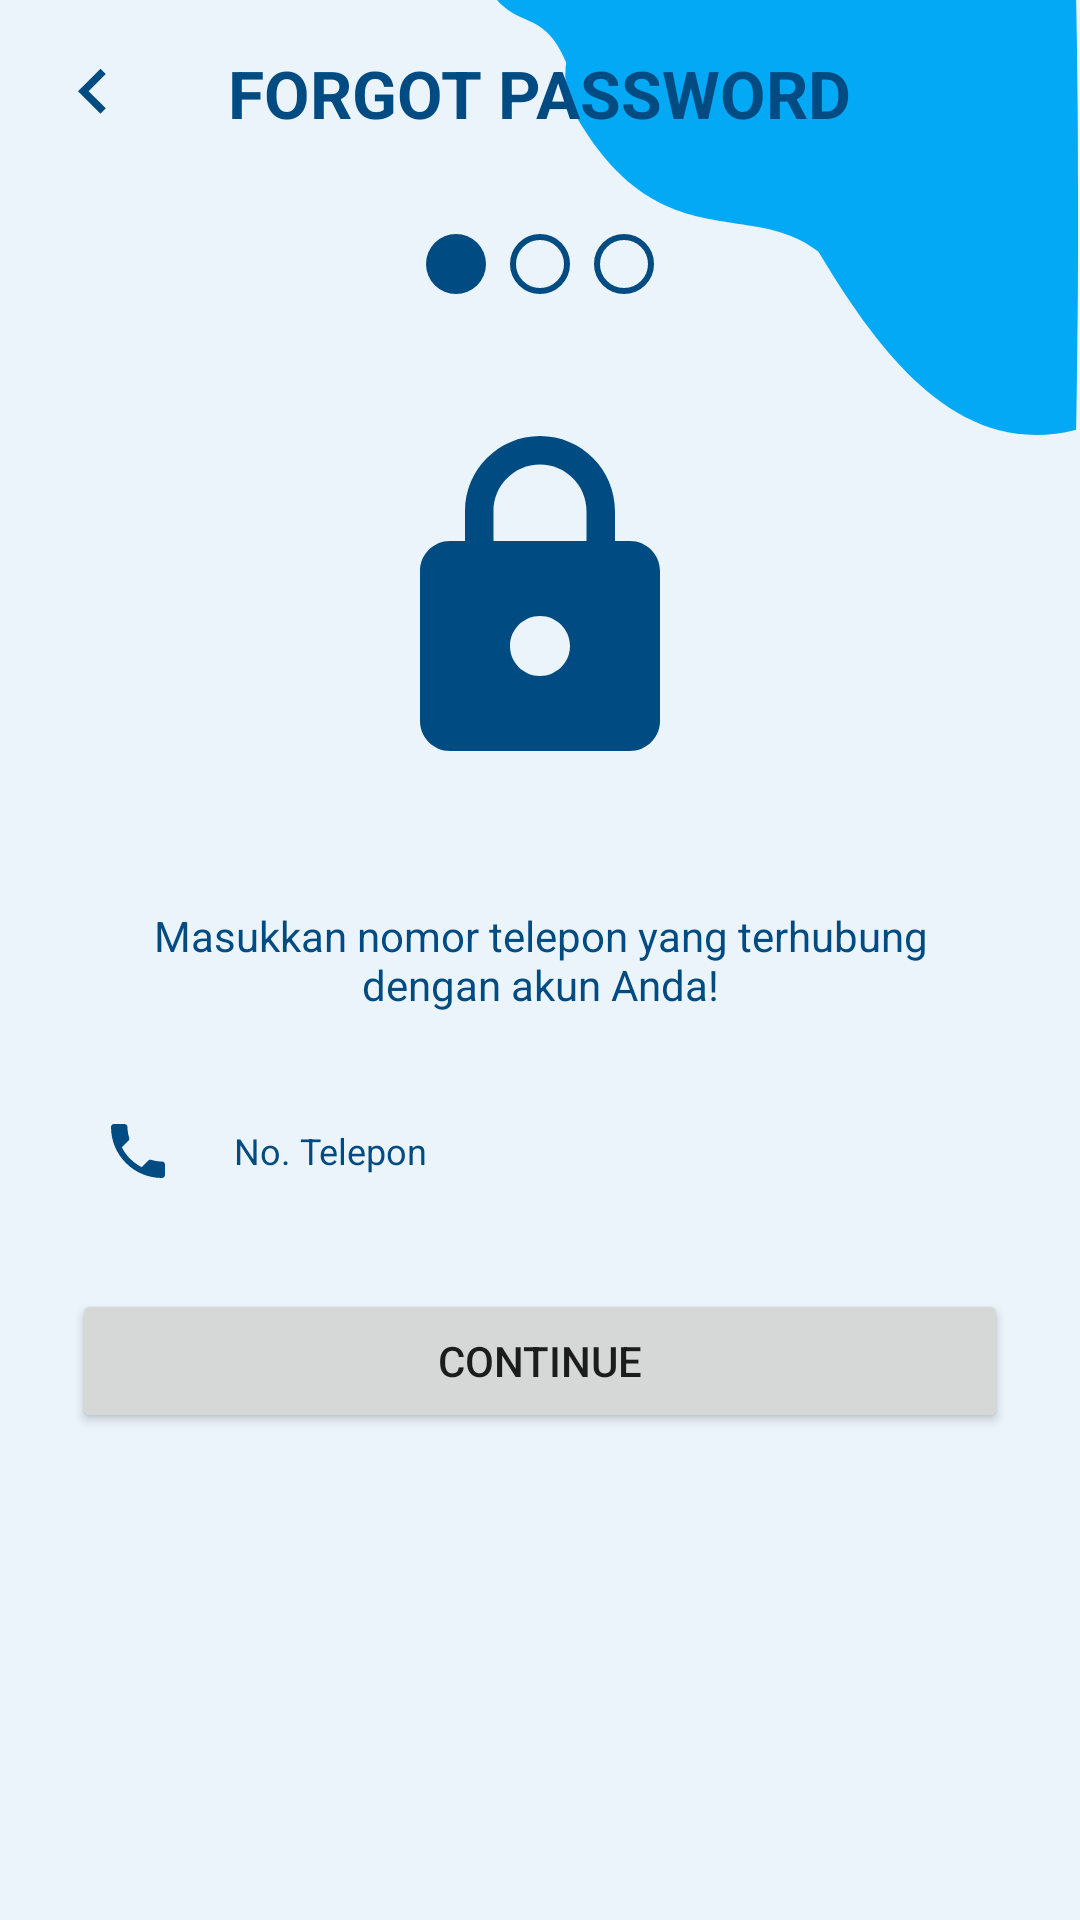

Icon bounding boxes for this 1080px×1920px phone screenshot, format (x1,y1,x2,y2):
keyboard arrow left: (78,69,106,114)
lock: (420,436,660,751)
